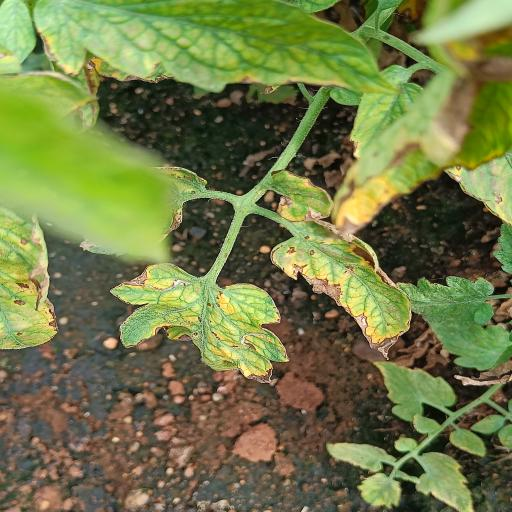Early Blight: (105, 260, 293, 384), (266, 217, 416, 361), (0, 212, 63, 354)
